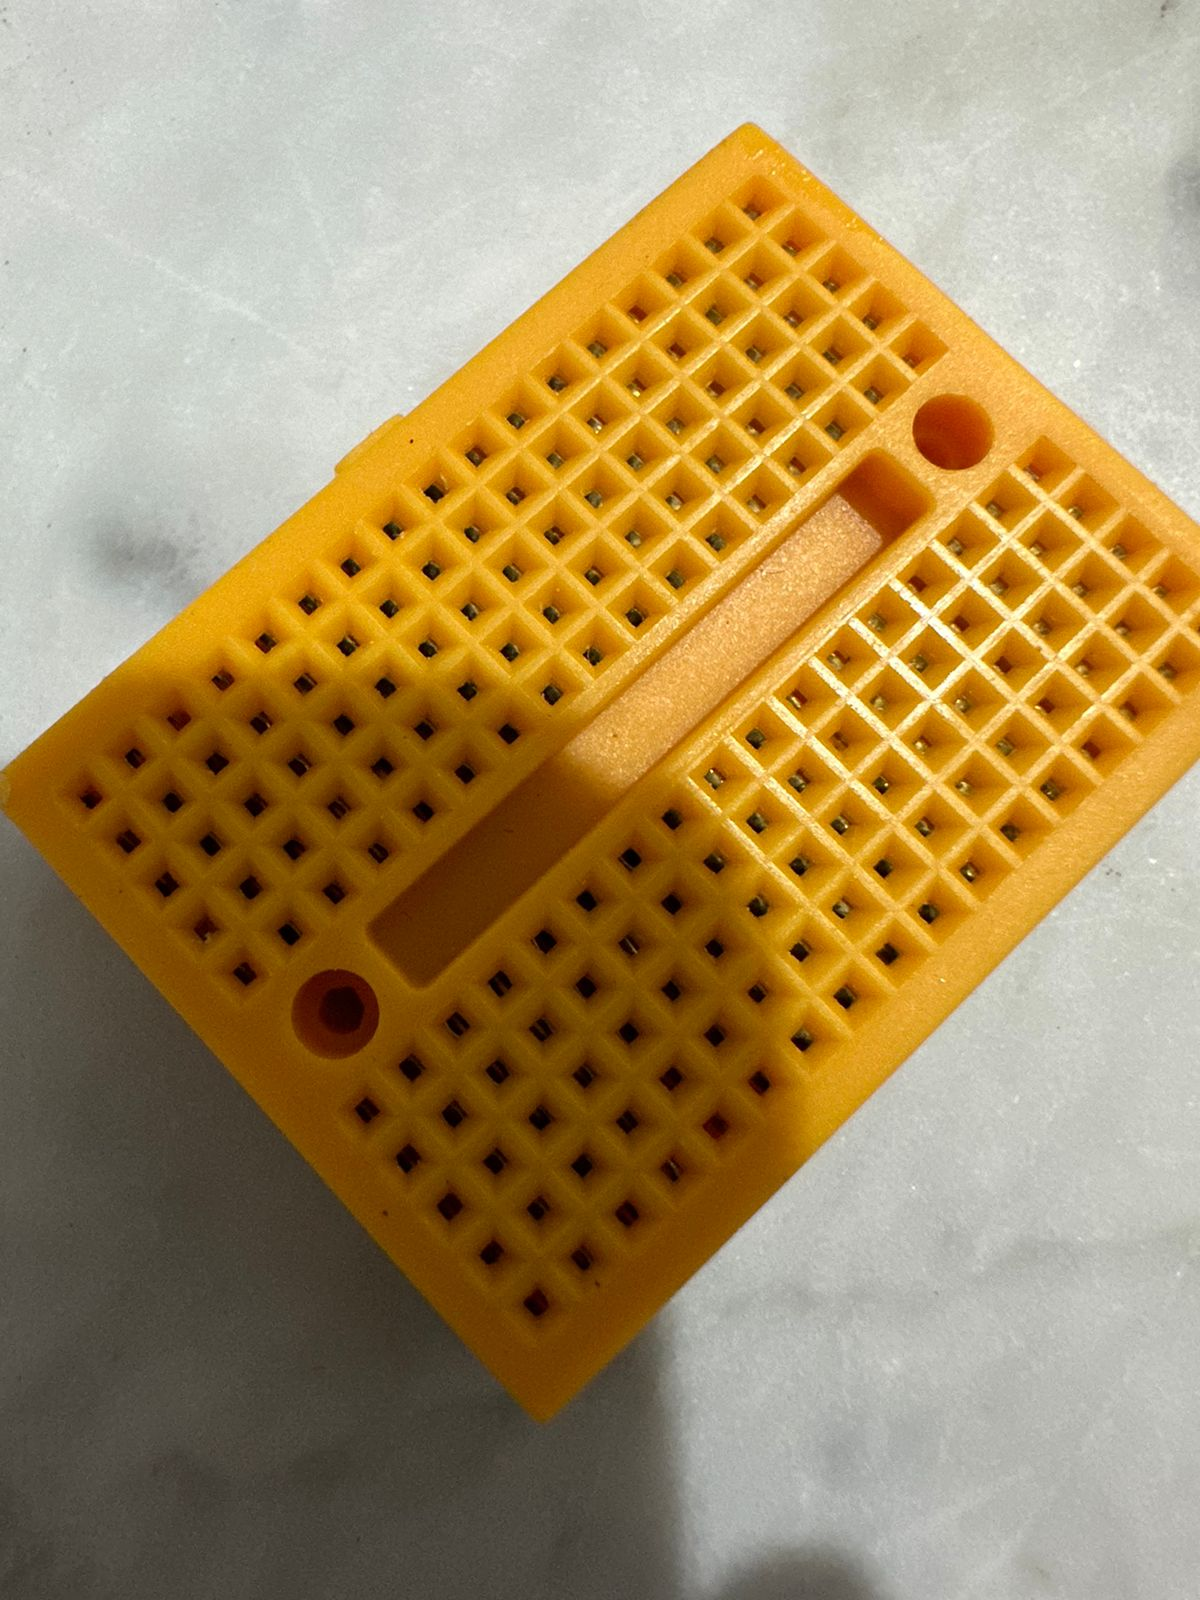breadboard: (8, 108, 1200, 1424)
